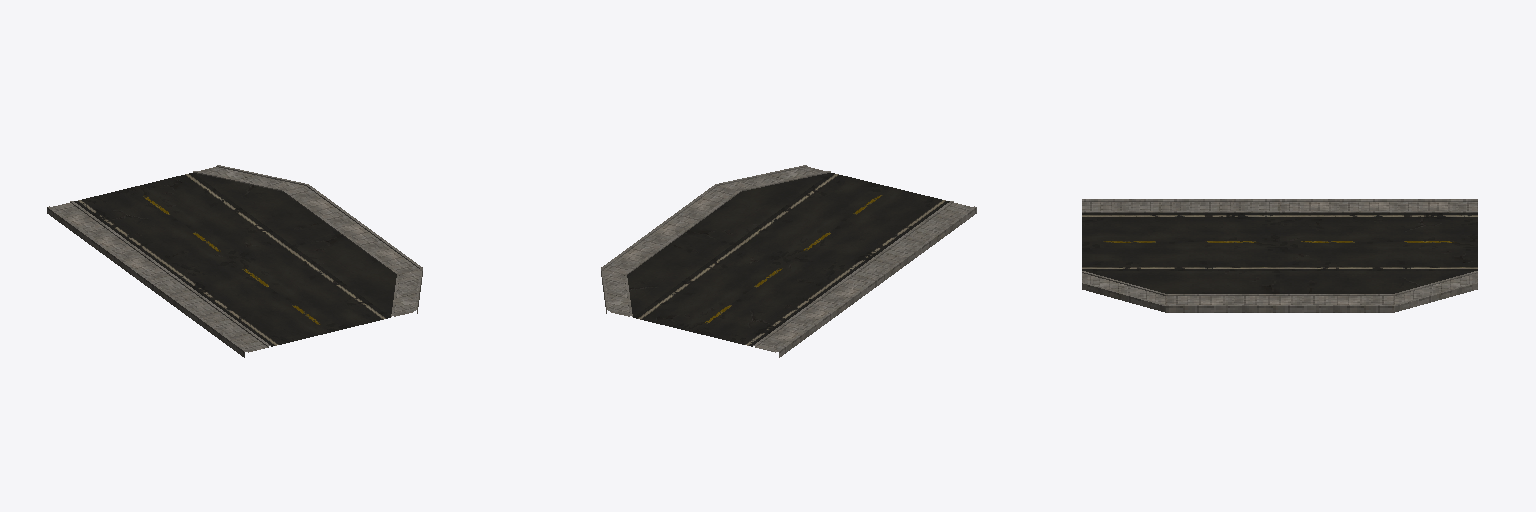
3 views of the same model, side by side, from view 1: azimuth 30°, elevation 25°; view 2: azimuth 150°, elevation 25°; view 3: azimuth 270°, elevation 25° (orthographic).
Parts seen in each view (by area): view 1: 7_Road-BusStop; view 2: 7_Road-BusStop; view 3: 7_Road-BusStop.
Boxes of the visible parts, <box> form: 7_Road-BusStop: <box>47,165,422,357</box>; 7_Road-BusStop: <box>601,165,976,357</box>; 7_Road-BusStop: <box>1082,199,1477,312</box>.
Bounding box in the file's own units: 0.7922 × 0.0219 × 1.24.
1 materials, 1 textured.